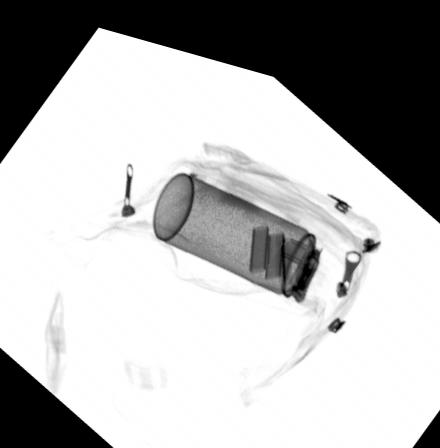Sprayer: (150, 160, 356, 299)
